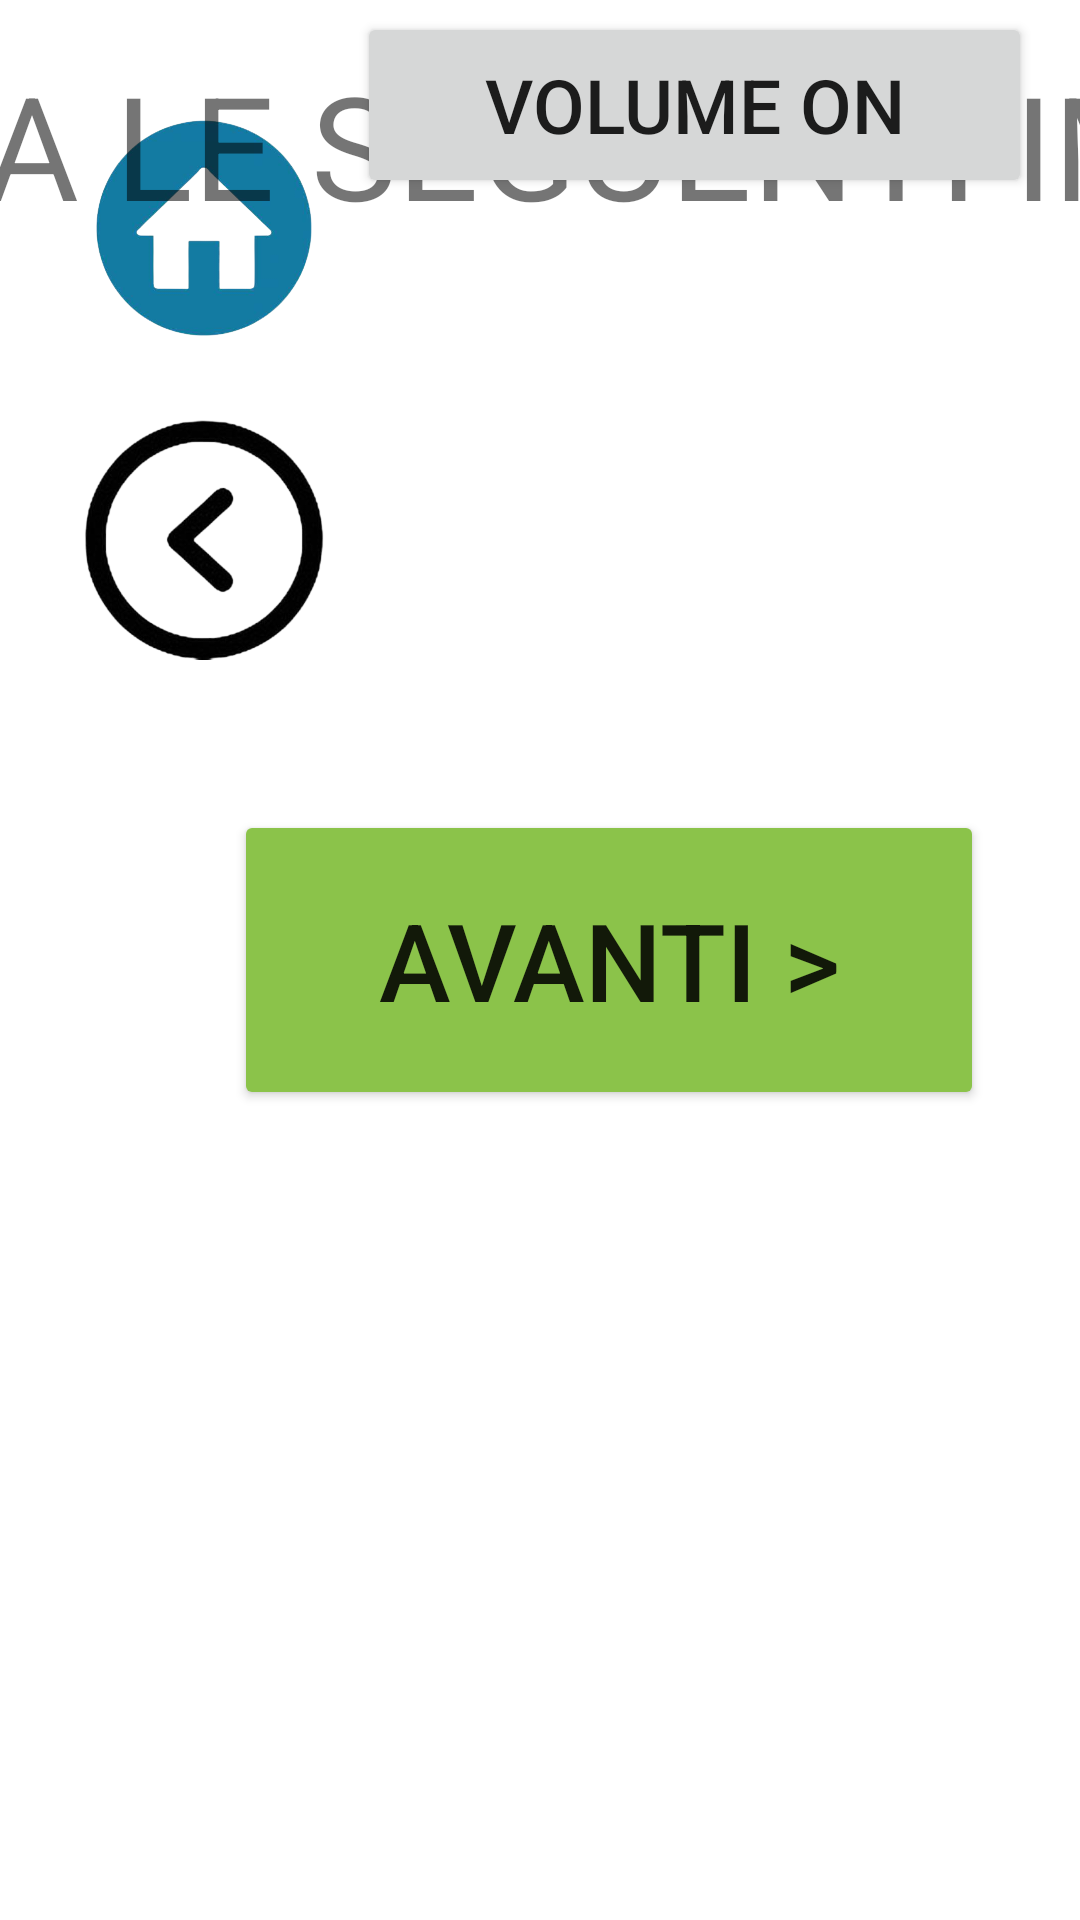

Where icons sit on this 1080 x 1920 app screen, as (x1, y1, x2, y2):
home: (96, 108, 324, 336)
indietro: (85, 420, 323, 660)
